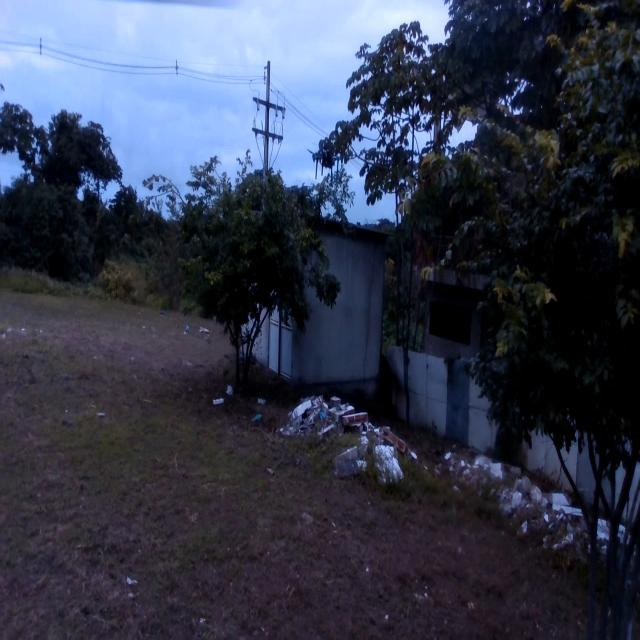-uav-: (304, 132, 346, 190)
